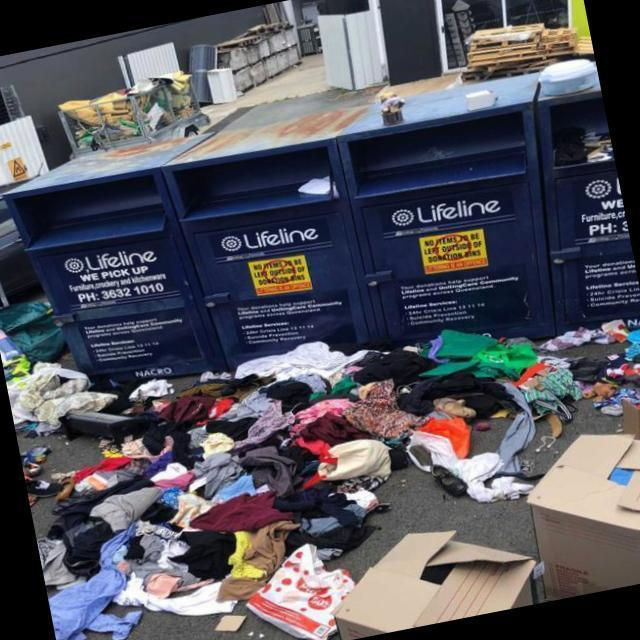garbage: (91, 271, 640, 640), (0, 276, 139, 640), (41, 49, 212, 152), (446, 0, 596, 93), (551, 125, 616, 177)
